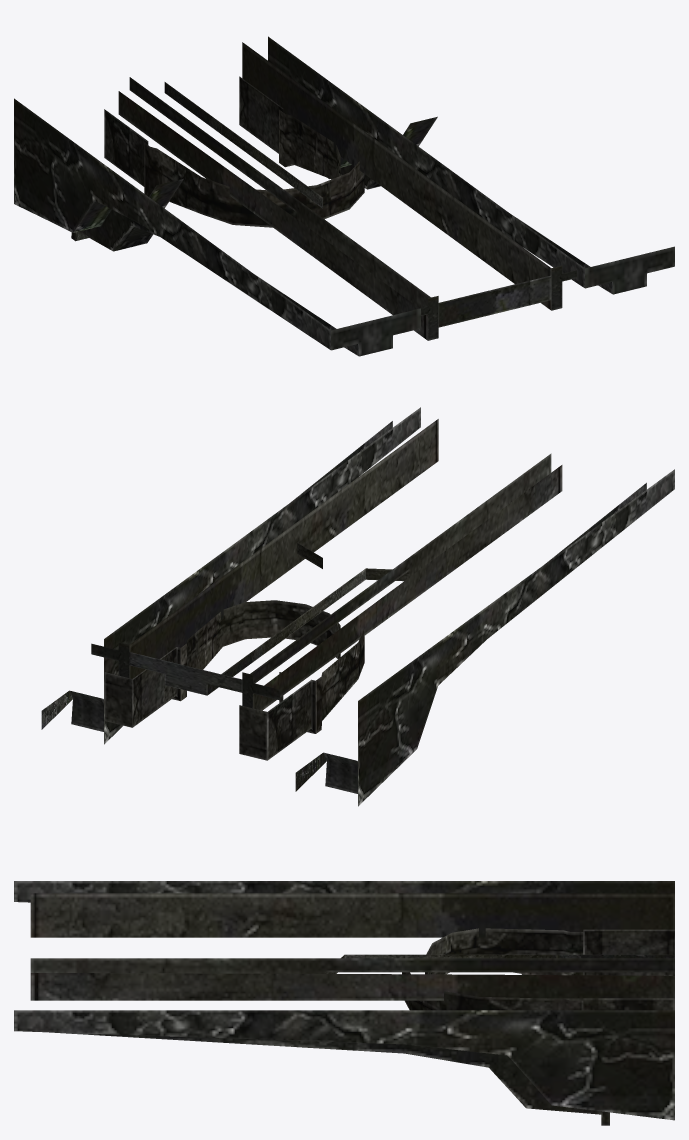
The picture shows the model from 3 angles, top to bottom: view 1: azimuth 30°, elevation 25°; view 2: azimuth 150°, elevation 25°; view 3: azimuth 270°, elevation 25°; orthographic projection. The views are drawn at different scales.
Visible parts, largest first — view 1: model_Object93; view 2: model_Object93; view 3: model_Object93.
Boxes of the visible parts, box(x1,y1,x2,y2) form: model_Object93: box(14, 36, 674, 356); model_Object93: box(41, 407, 674, 806); model_Object93: box(14, 881, 674, 1125).
Bounding box in the file's own units: 3.44 × 1.19 × 5.5.
2 materials, 2 textured.
